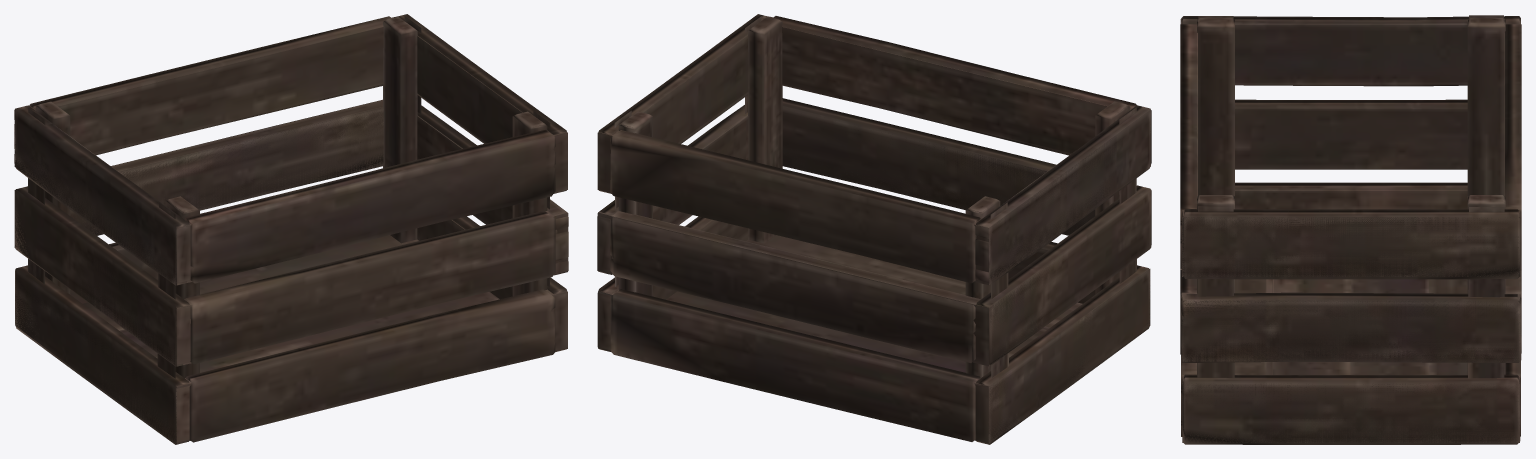
The model's file is Crate1.glb.
3 views of the same model, side by side, from view 1: azimuth 30°, elevation 25°; view 2: azimuth 150°, elevation 25°; view 3: azimuth 270°, elevation 25° (orthographic). The views are drawn at different scales.
Parts seen in each view (by area): view 1: Crate1; view 2: Crate1; view 3: Crate1.
Part boxes in pixels (box(x1,y1,x2,y2)): Crate1: box(14, 14, 568, 444); Crate1: box(597, 14, 1151, 444); Crate1: box(1180, 15, 1521, 444).
Bounding box in the file's own units: 0.7029 × 0.3869 × 0.5072.
Materials: 1 (1 with a texture image).
